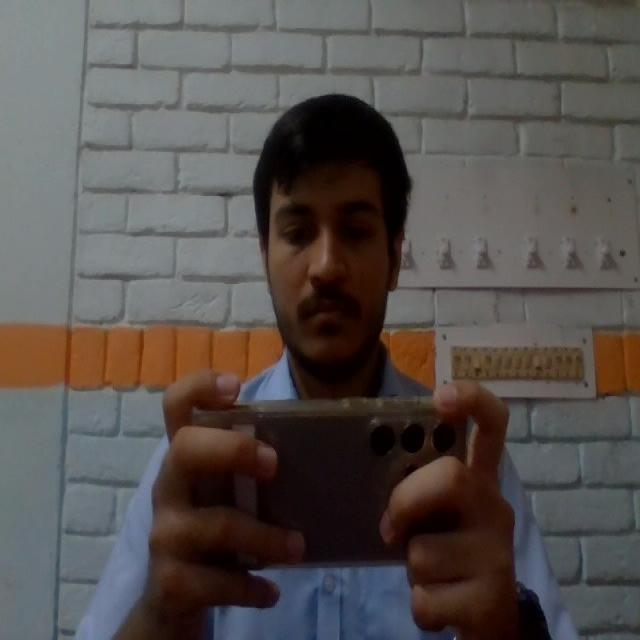phone: (180, 392, 472, 568)
using-phone: (67, 97, 583, 640)
